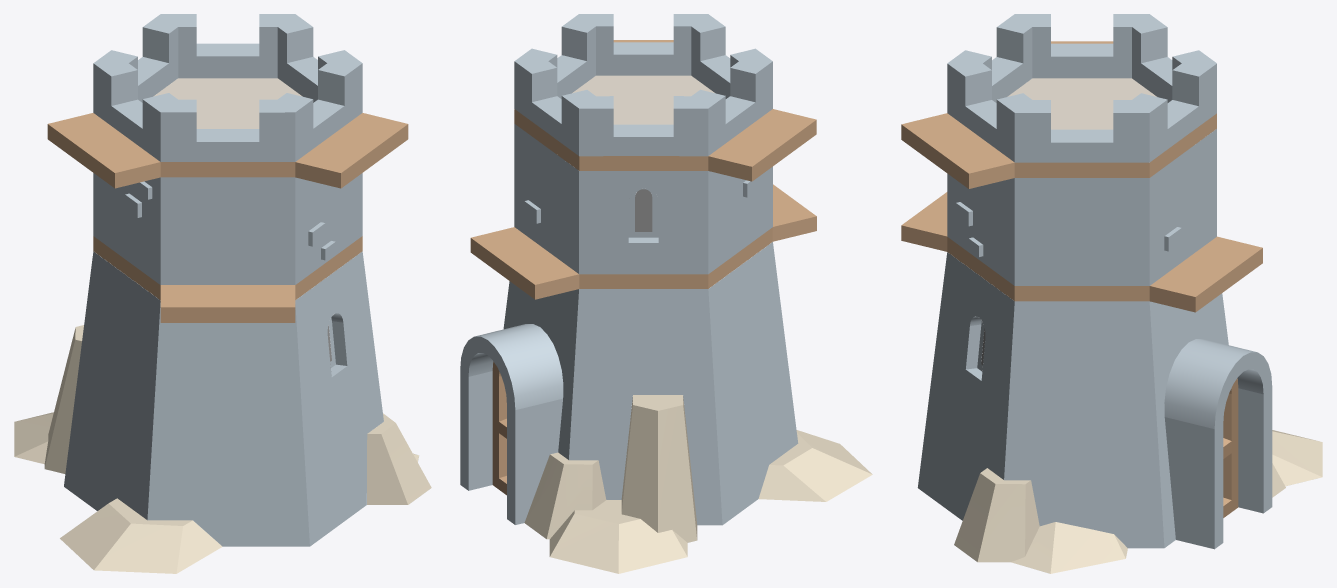
The model's file is tower.glb.
3 renders of one model, left to right at view 1: azimuth 30°, elevation 25°; view 2: azimuth 150°, elevation 25°; view 3: azimuth 270°, elevation 25°, orthographic. The views are drawn at different scales.
Visible parts, largest first — view 1: tower; view 2: tower; view 3: tower.
Boxes of the visible parts, <box> form: tower: <box>14,14,431,573</box>; tower: <box>460,14,872,573</box>; tower: <box>901,14,1322,573</box>.
Bounding box in the file's own units: 3.32 × 3.71 × 3.34.
2 materials, 2 textured.
